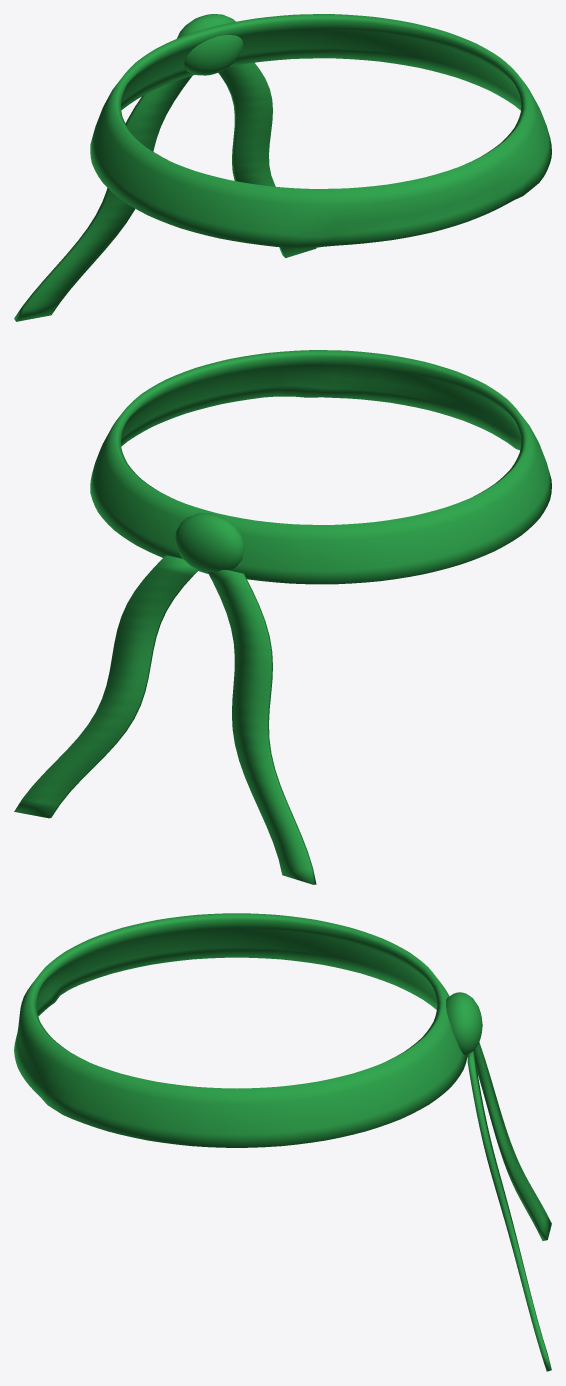
Rendered from hachimaki_green.fbx.
3 views of the same model, one above another, from view 1: azimuth 30°, elevation 25°; view 2: azimuth 150°, elevation 25°; view 3: azimuth 270°, elevation 25° (orthographic).
Visible parts, largest first — view 1: hachimaki; view 2: hachimaki; view 3: hachimaki.
Part boxes in pixels (<box>): hachimaki: <box>14,14,551,321</box>; hachimaki: <box>14,350,551,884</box>; hachimaki: <box>14,913,551,1371</box>.
Size of the model in its own units: 1.02 by 0.7337 by 1.19.
